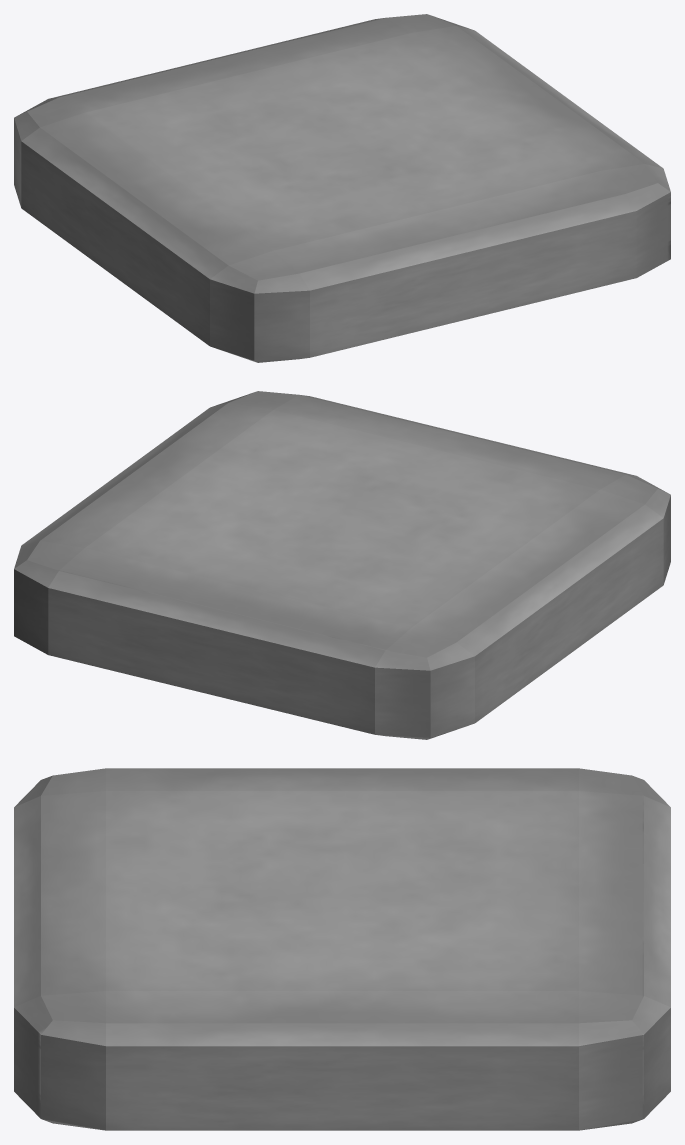
Rendered from SteppingStone-5.glb.
3 renders of one model, top to bottom at view 1: azimuth 30°, elevation 25°; view 2: azimuth 150°, elevation 25°; view 3: azimuth 270°, elevation 25°, orthographic. The views are drawn at different scales.
Parts seen in each view (by area): view 1: SteppingStone-5-col; view 2: SteppingStone-5-col; view 3: SteppingStone-5-col.
Boxes of the visible parts, bbox=[...] form: SteppingStone-5-col: bbox=[14, 14, 670, 362]; SteppingStone-5-col: bbox=[14, 391, 670, 739]; SteppingStone-5-col: bbox=[14, 768, 670, 1130].
Size of the model in its own units: 0.3357 by 0.066 by 0.3357.
1 material, 1 textured.
